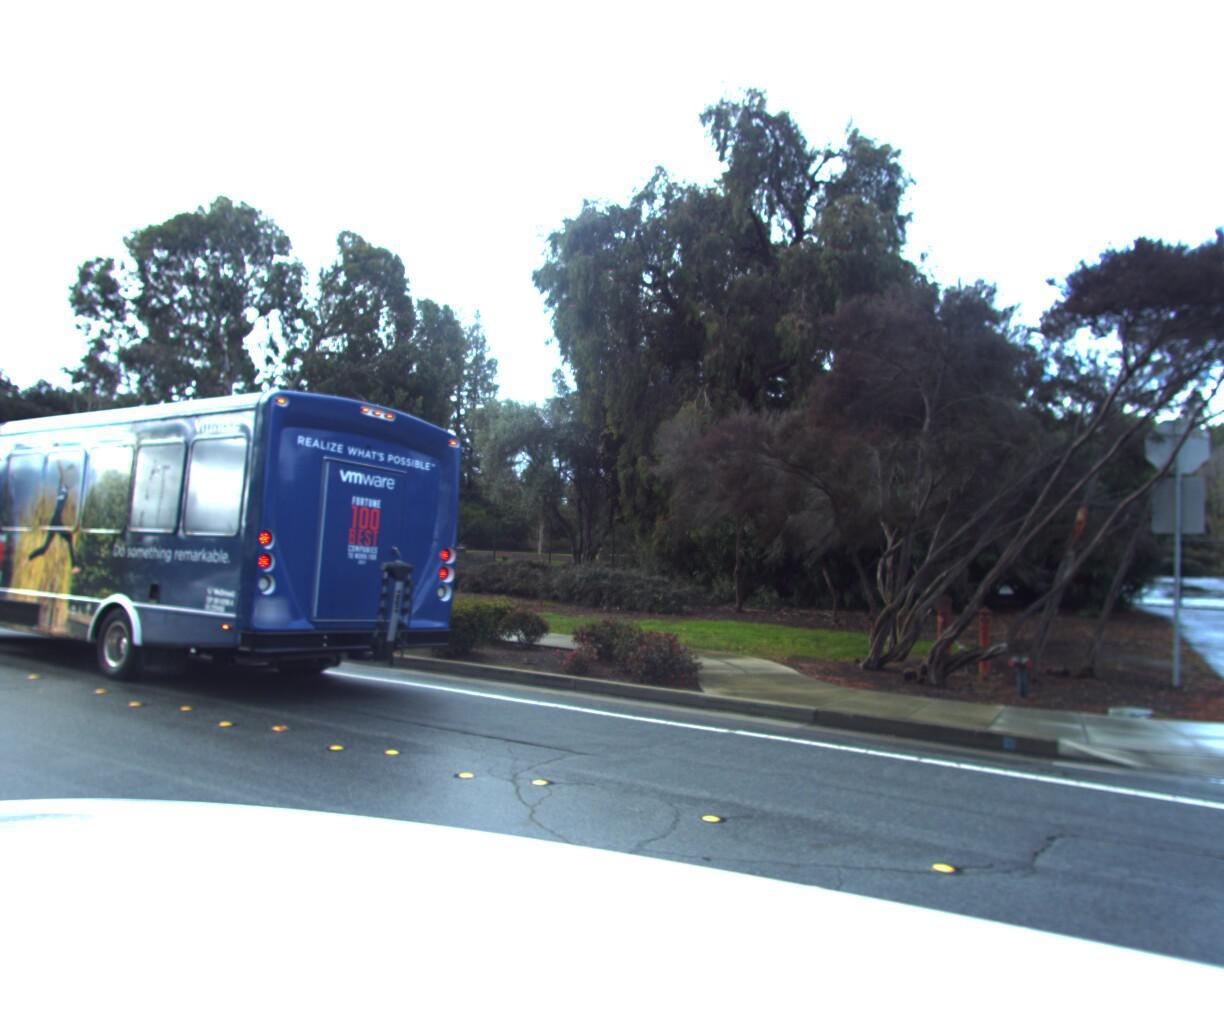bus: (0, 363, 517, 724)
